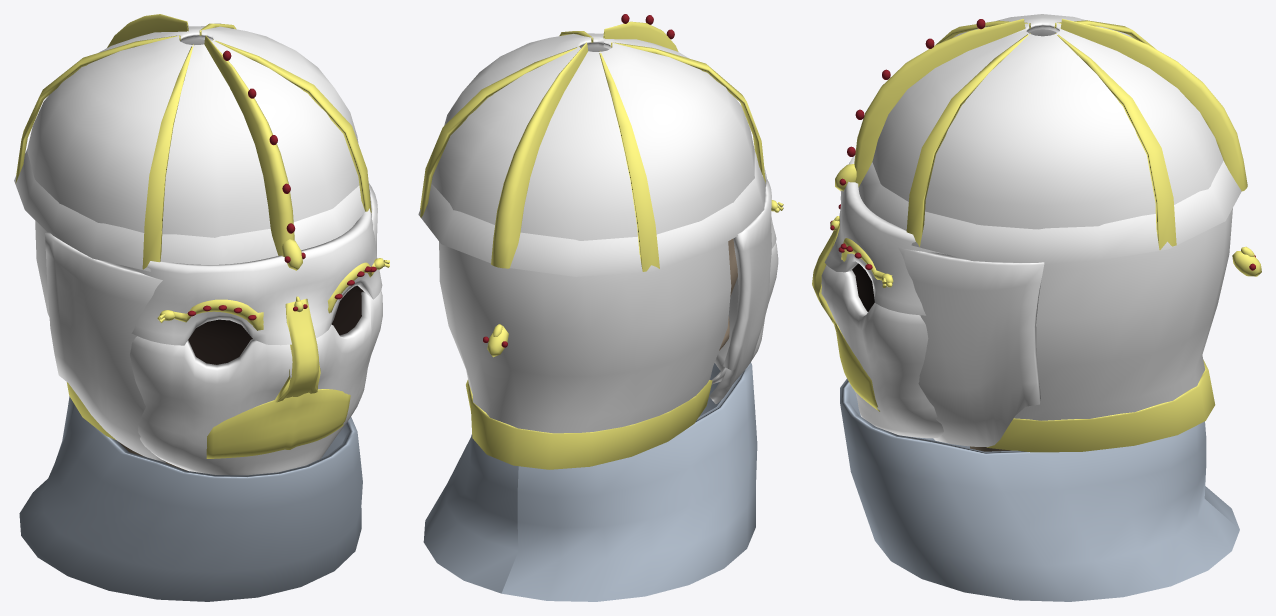
Rendered from helm-berserker-suttonhoo.glb.
3 views of the same model, side by side, from view 1: azimuth 30°, elevation 25°; view 2: azimuth 150°, elevation 25°; view 3: azimuth 270°, elevation 25° (orthographic). The views are drawn at different scales.
Parts seen in each view (by area): view 1: helm-berserker-suttonhoo; view 2: helm-berserker-suttonhoo; view 3: helm-berserker-suttonhoo.
Boxes of the visible parts, x1,y1,x2,y2 form: helm-berserker-suttonhoo: (14,14,389,601); helm-berserker-suttonhoo: (418,14,783,601); helm-berserker-suttonhoo: (812,14,1261,601).
Bounding box in the file's own units: 0.2644 × 0.4158 × 0.3317.
